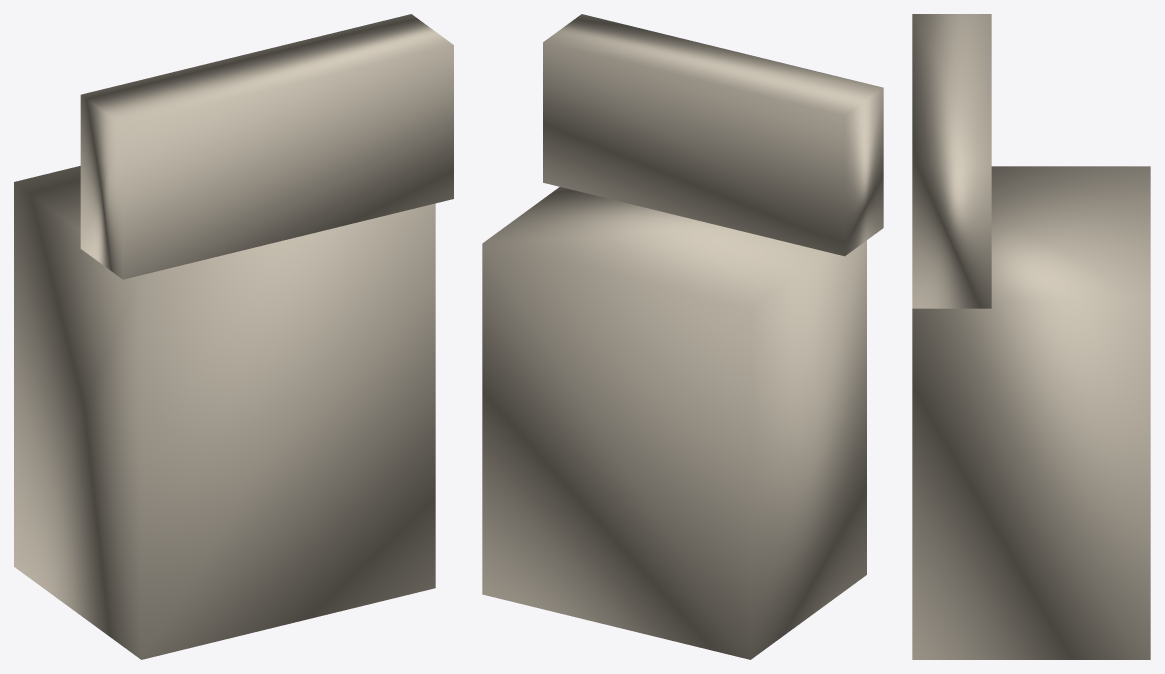
The model's file is cestus.glb.
3 renders of one model, left to right at view 1: azimuth 30°, elevation 25°; view 2: azimuth 150°, elevation 25°; view 3: azimuth 270°, elevation 25°, orthographic. The views are drawn at different scales.
Visible parts, largest first — view 1: cestus; view 2: cestus; view 3: cestus.
Boxes of the visible parts, x1,y1,x2,y2 form: cestus: (14,14,453,659); cestus: (482,14,883,659); cestus: (912,14,1150,659).
Size of the model in its own units: 0.09 by 0.14 by 0.06.
